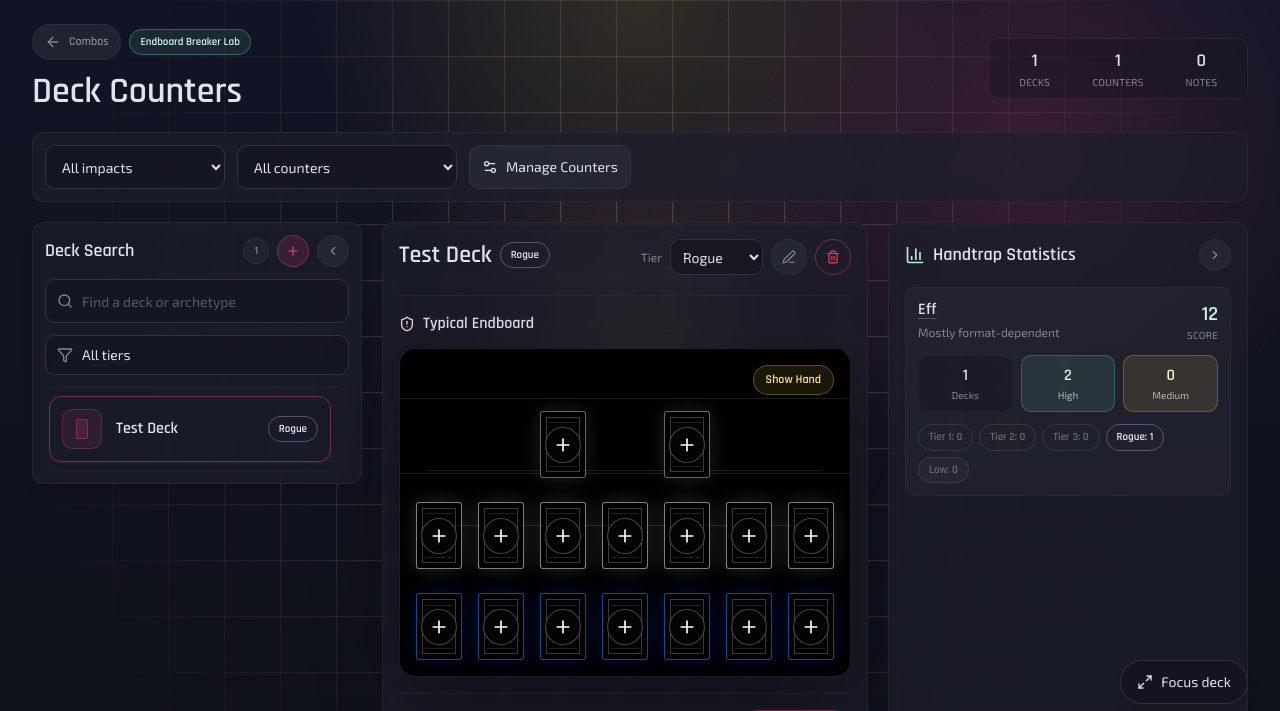
Test: DeckCounterGuide targetless matchups › manages saved counters globally and clears a deleted counter filter
Later steps or results of the test are not shown.
Step 1. Select "Eff" in the 2nd dropdown named "Eff" → (347, 167), box [237,145,457,189]
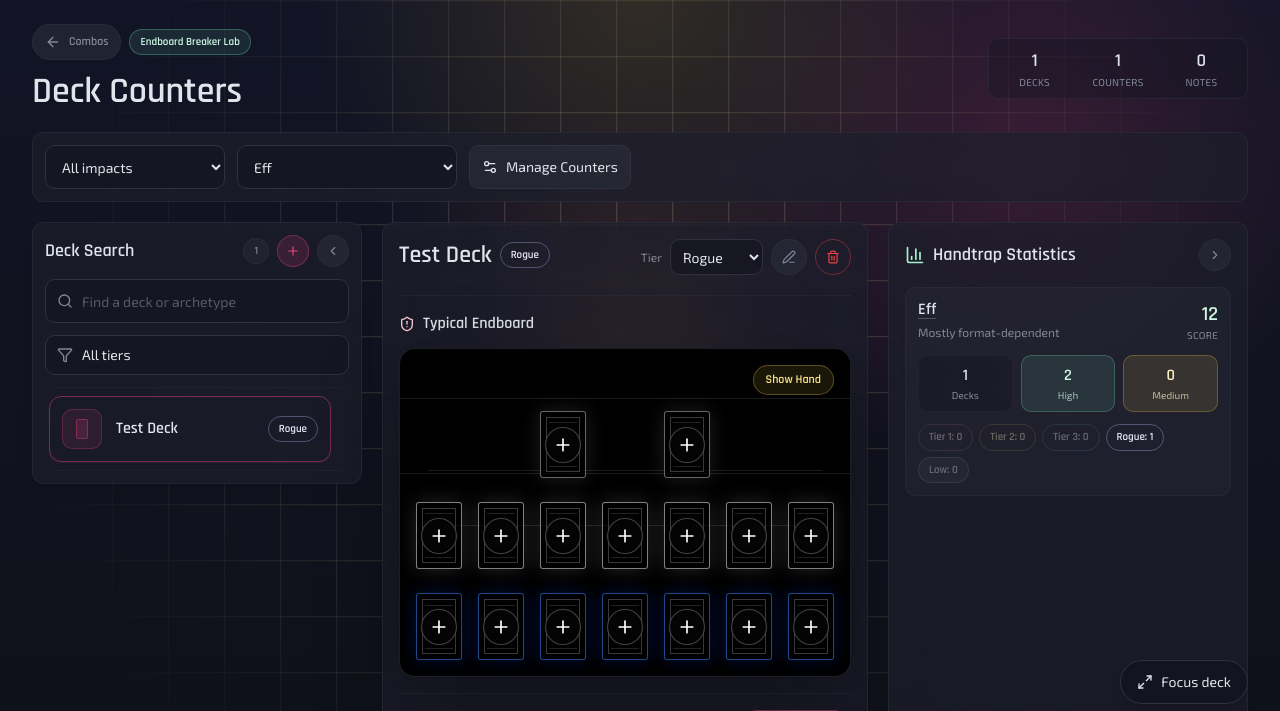
Step 2. Click the button "Manage Counters" → click(550, 167), box [469,145,631,189]
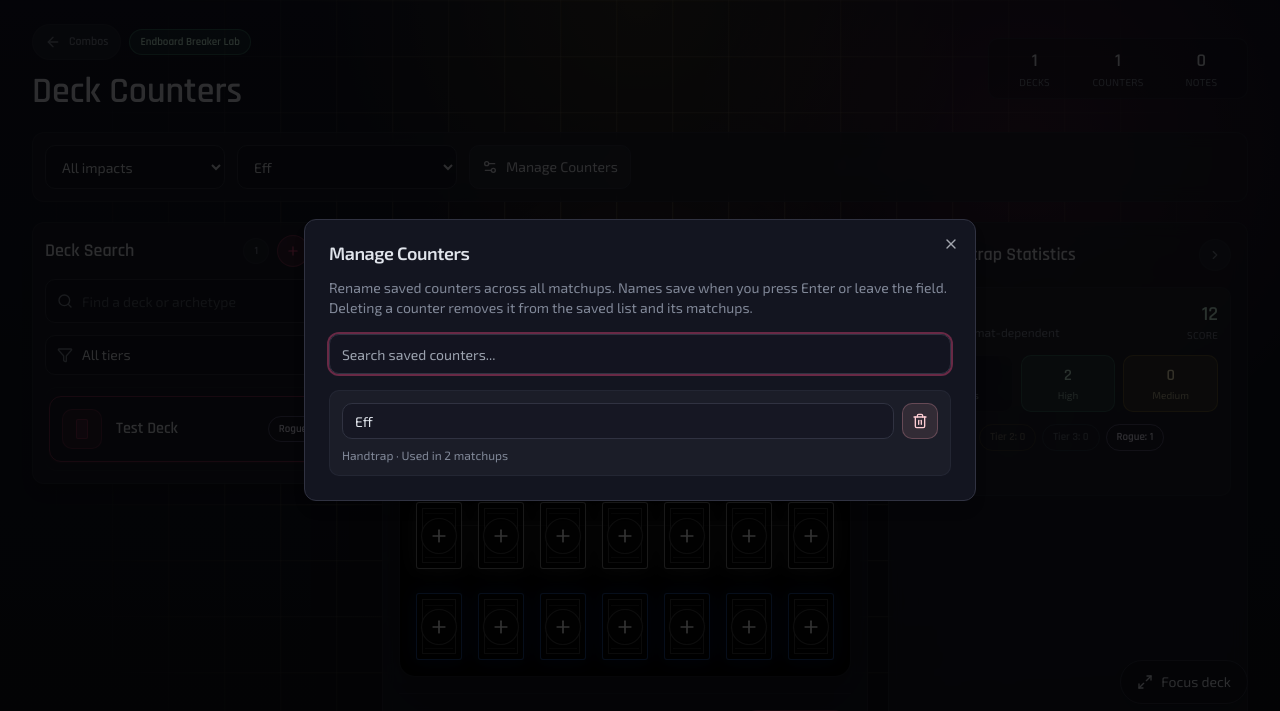
Now the text "Handtrap · Used in 2 matchups" is shown, box [342,448,508,462]
Step 3. Replace the text in the field named "Saved counter name: Eff" with "Effect Veiler" → (618, 421), box [342,403,894,439]
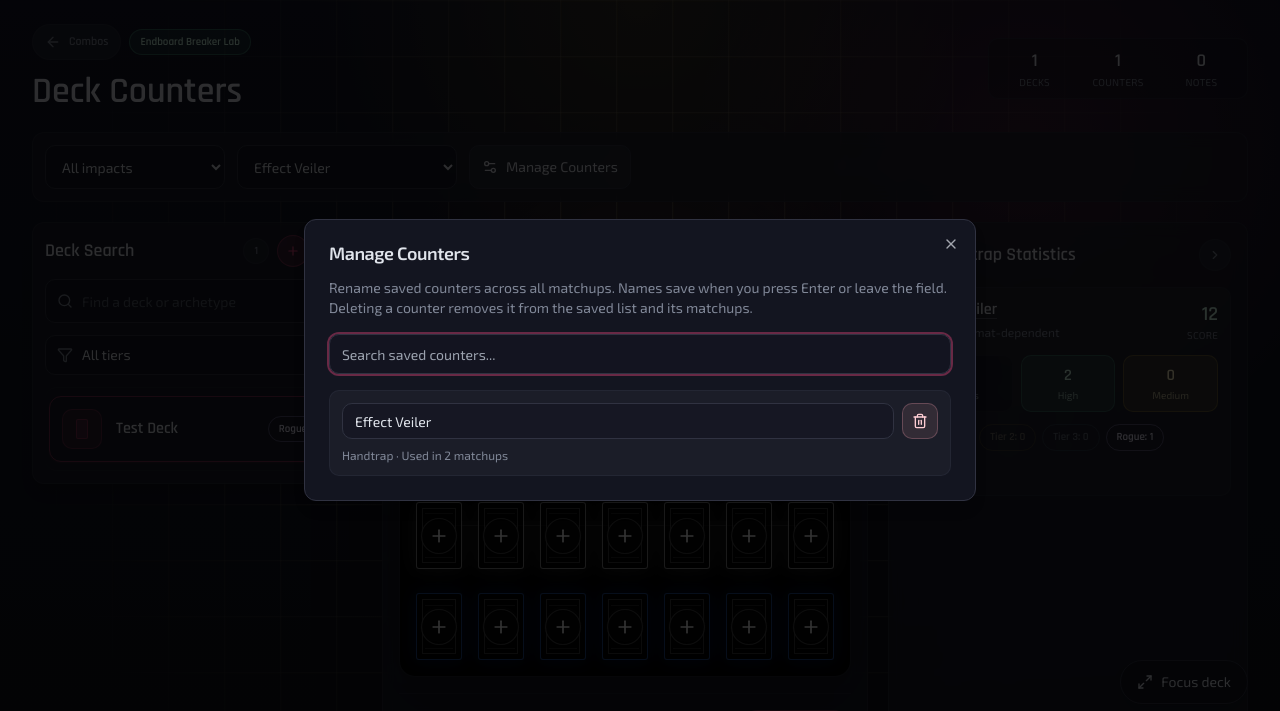
Step 4. Type "missing" into the field labelled "Search saved counters" → (640, 354), box [329,334,951,374]
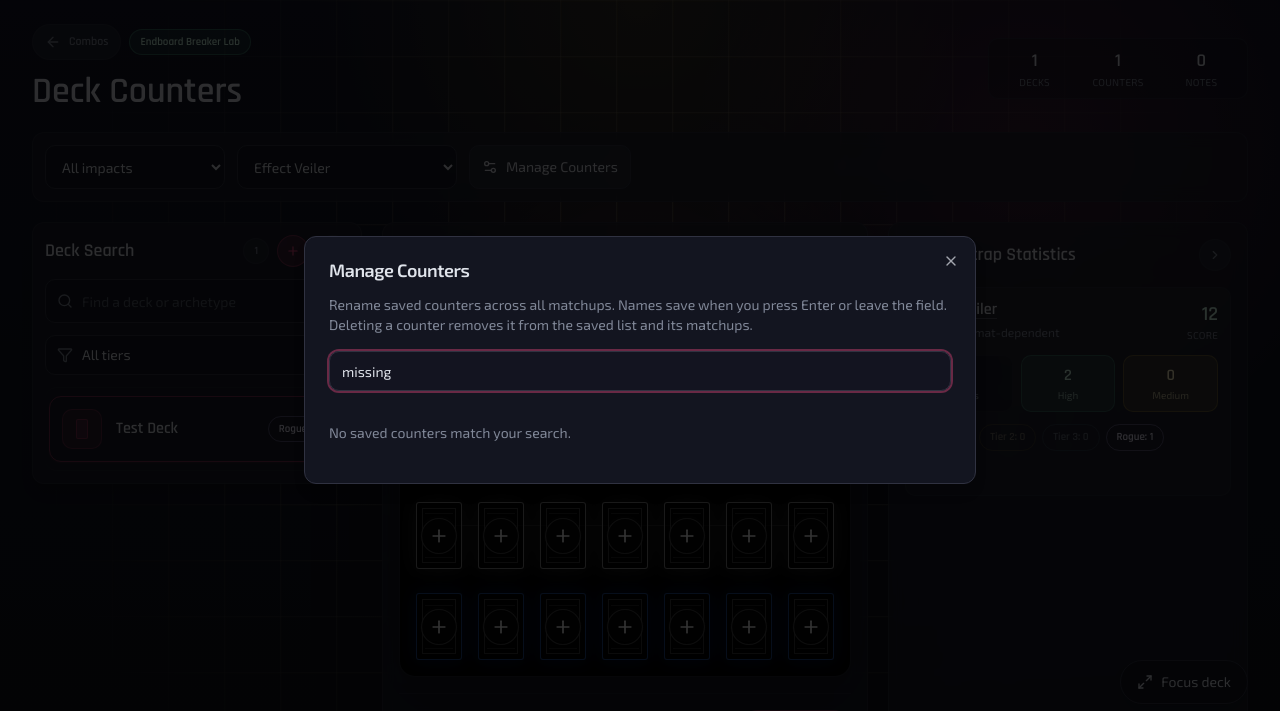
Now the text "No saved counters match your search." is shown, box [329,424,571,441]
Step 5. Replace the text in the field named "Search saved counters" with "veiler" → (640, 371), box [329,351,951,391]
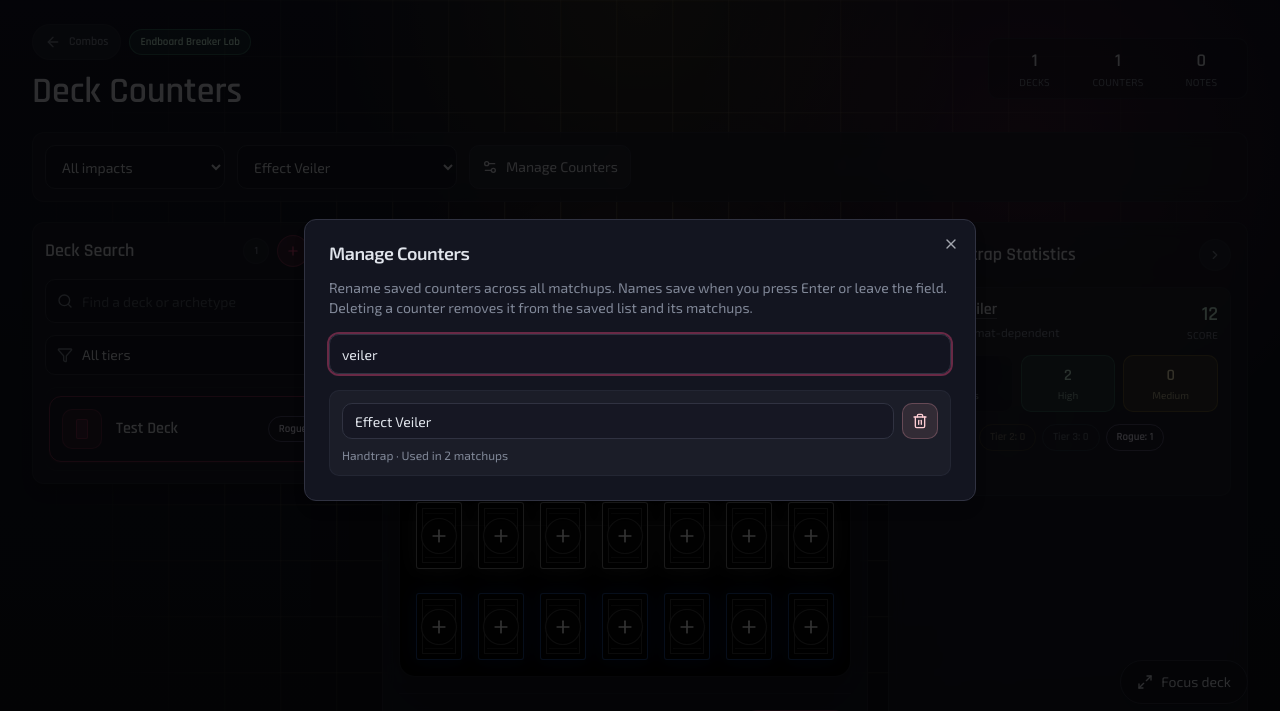
Step 6. Click the button named "Delete saved counter Effect Veiler" → click(920, 421), box [902,403,938,439]
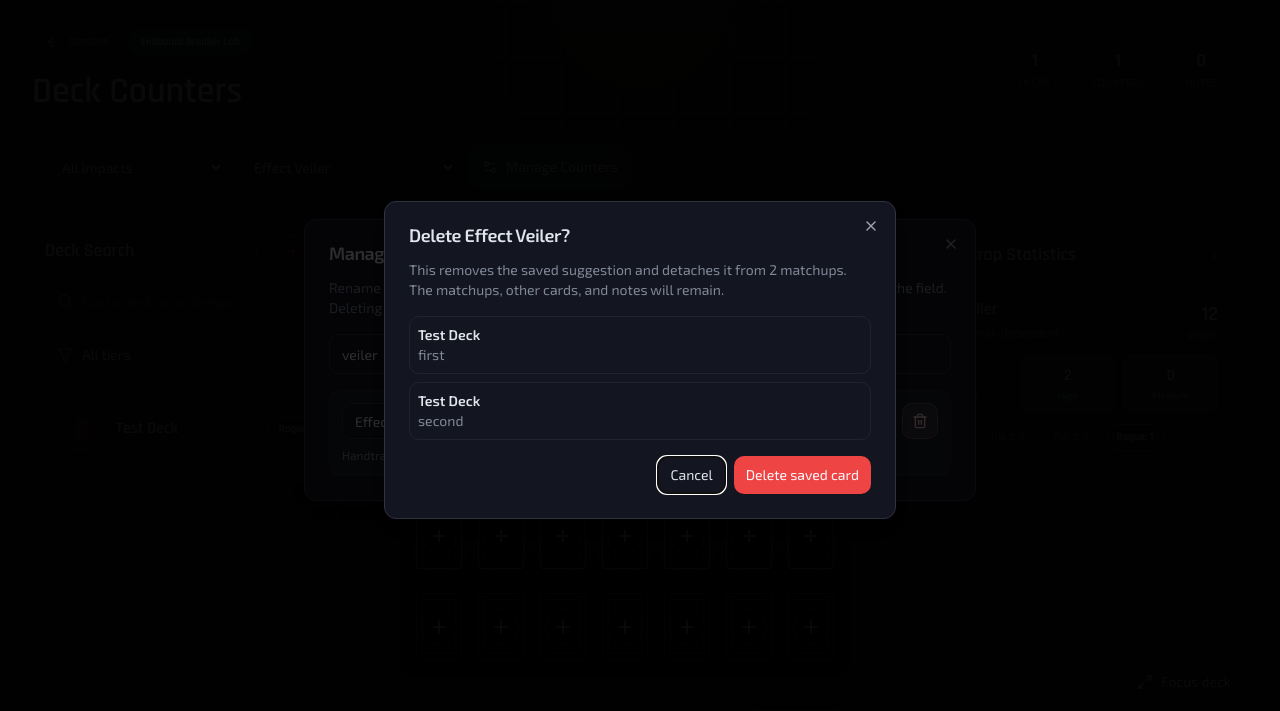
Now the text "first" is shown, box [418,346,444,363]
Now the text "second" is shown, box [418,412,464,429]
